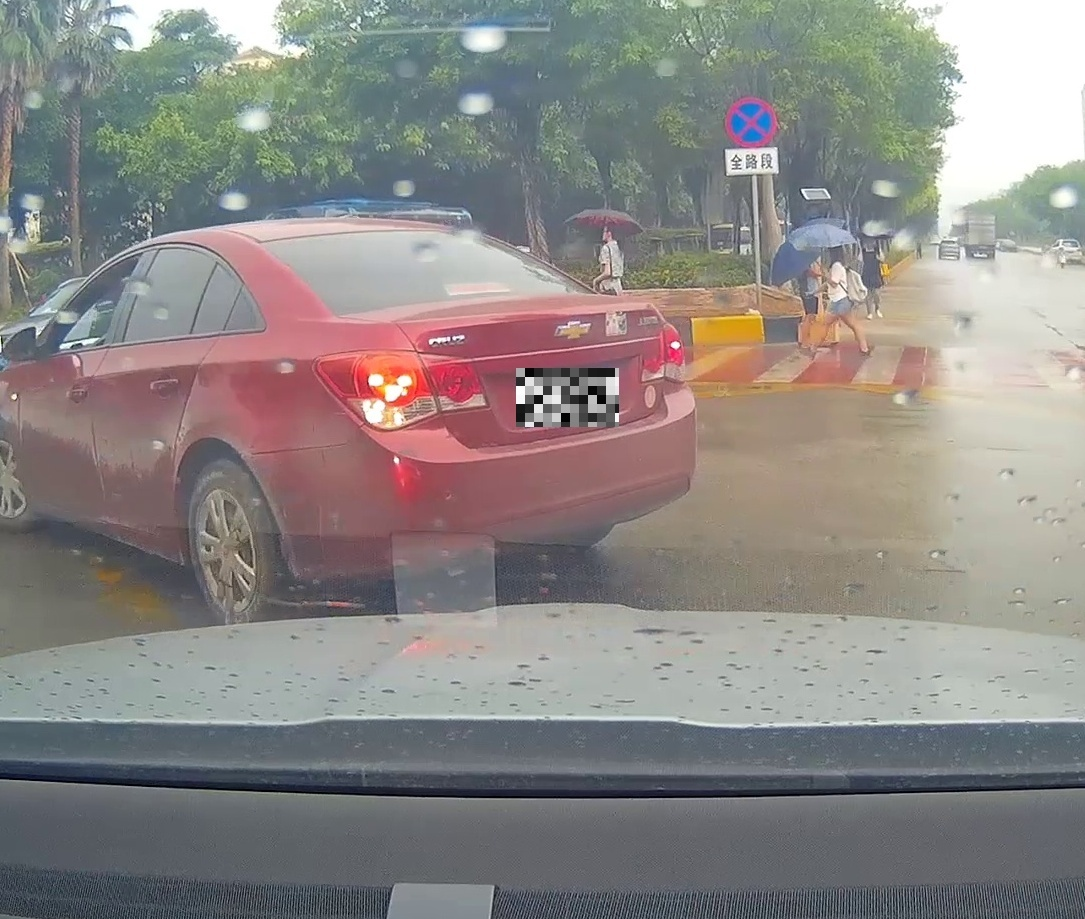L_light: (313, 350, 489, 433)
R_light: (639, 320, 688, 387)
T_light: (443, 281, 514, 295)
day-left: (246, 217, 700, 632)
plate_1: (516, 368, 619, 427)
